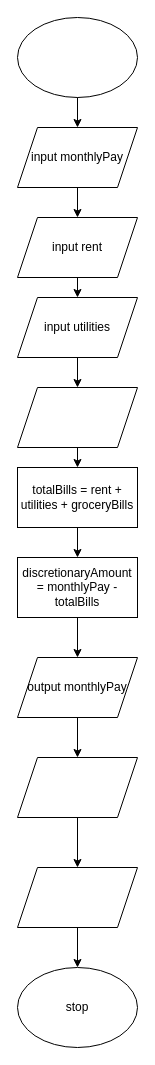
The diagram is 155 pixels wide and 1065 high, and some of its shapes have lost their labels. The centre of each missing label's shape, as x and y in pixels:
"input groceryBills" belongs at point 77,417.
"output discrectionaryAmount" belongs at point 77,897.
"output totalBills" belongs at point 77,787.
"start" belongs at point 77,57.
